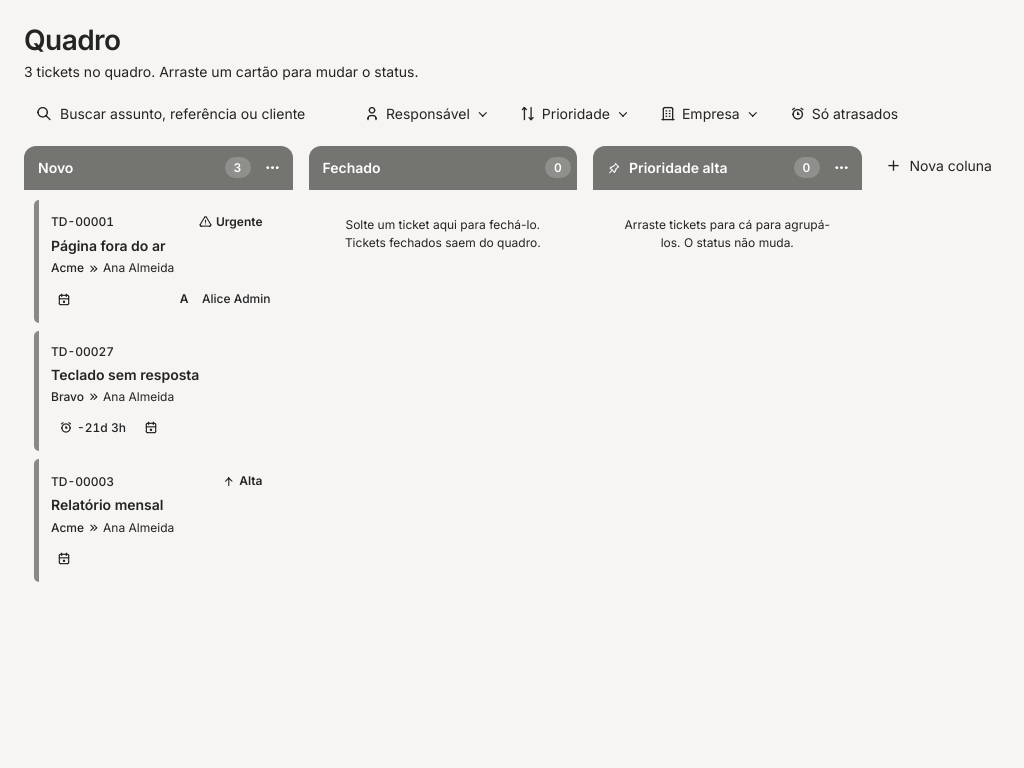
Scenario: PaginaKanban — limite de WIP › valor inválido não vai ao servidor
Click the button named "Opções da coluna Novo": (272,168) [258,154,286,182]
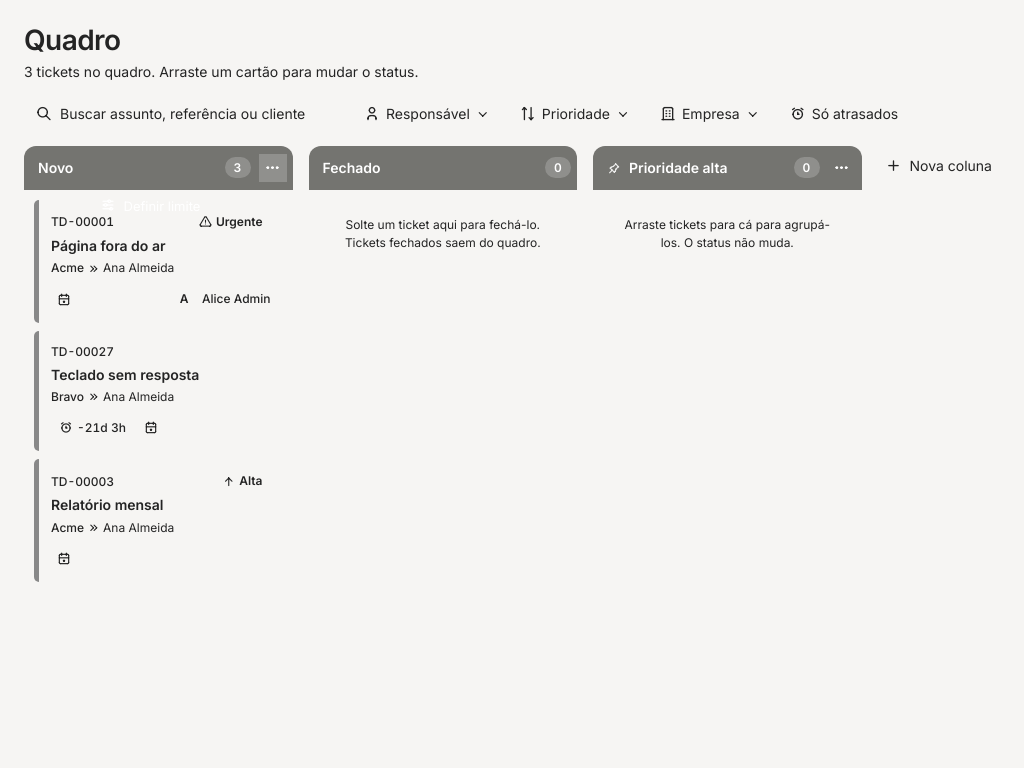
Click the menu item "Definir limite": (186,206) [90,190,282,222]
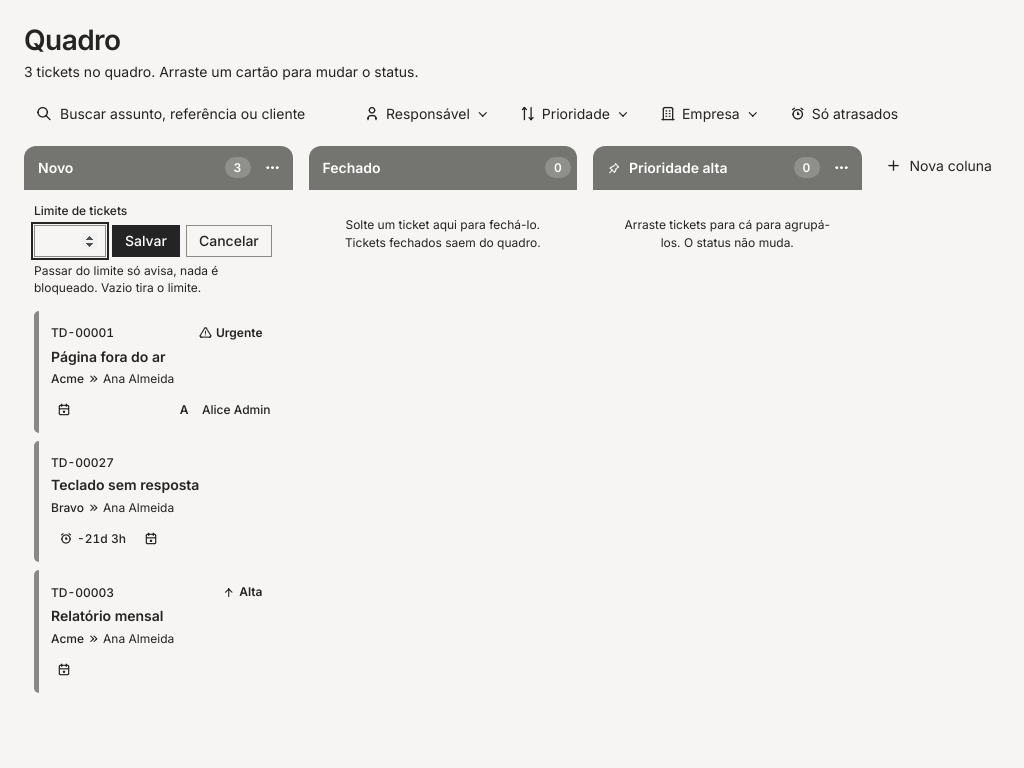
In the number field labelled "Limite de tickets": (70,241) [34,225,106,257], type "0"
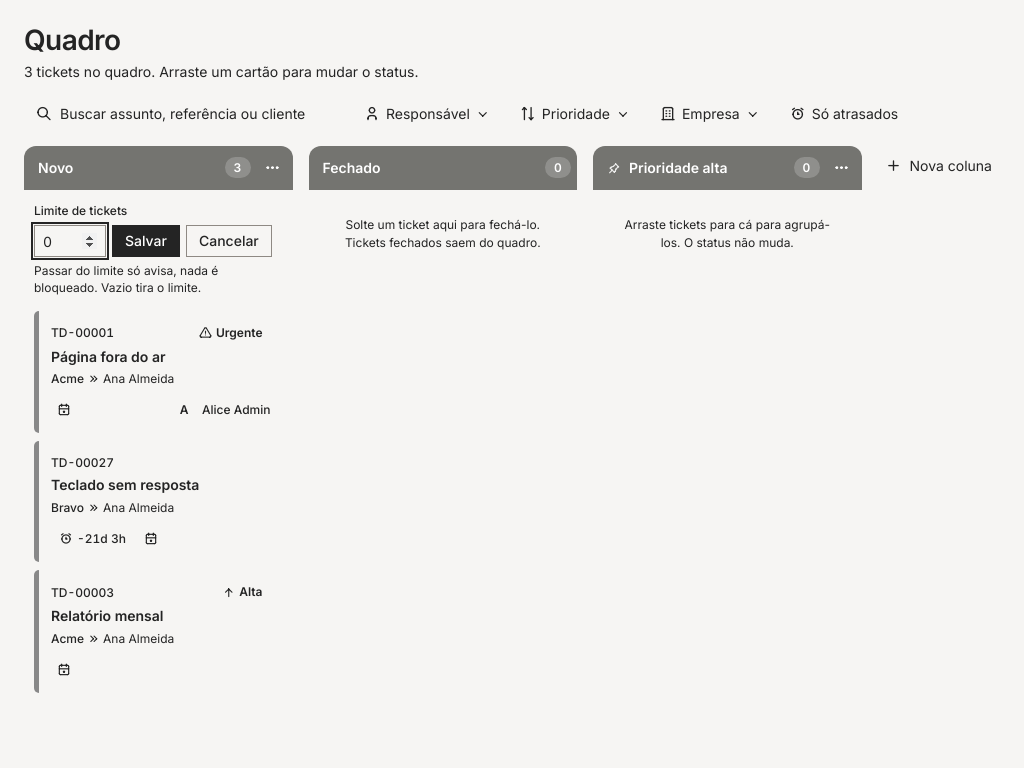
Click the button "Salvar": (146,241) [112,225,180,257]
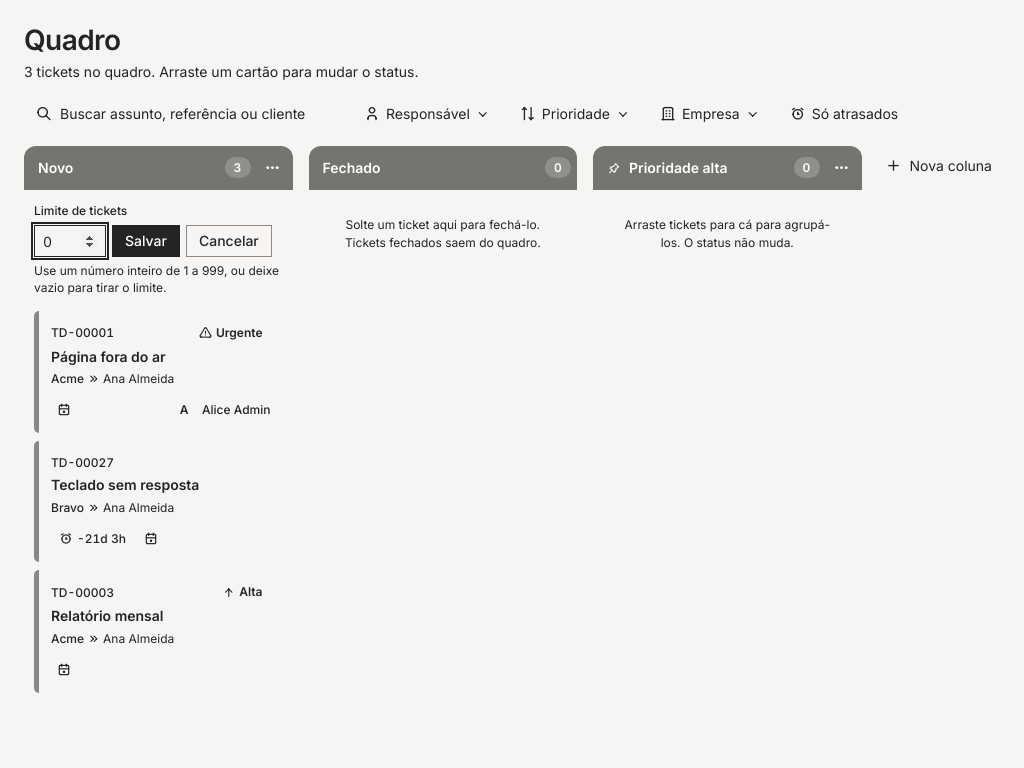
Check: the text "Use um número inteiro de 1 a 999" is shown, box [34,263,279,295]
